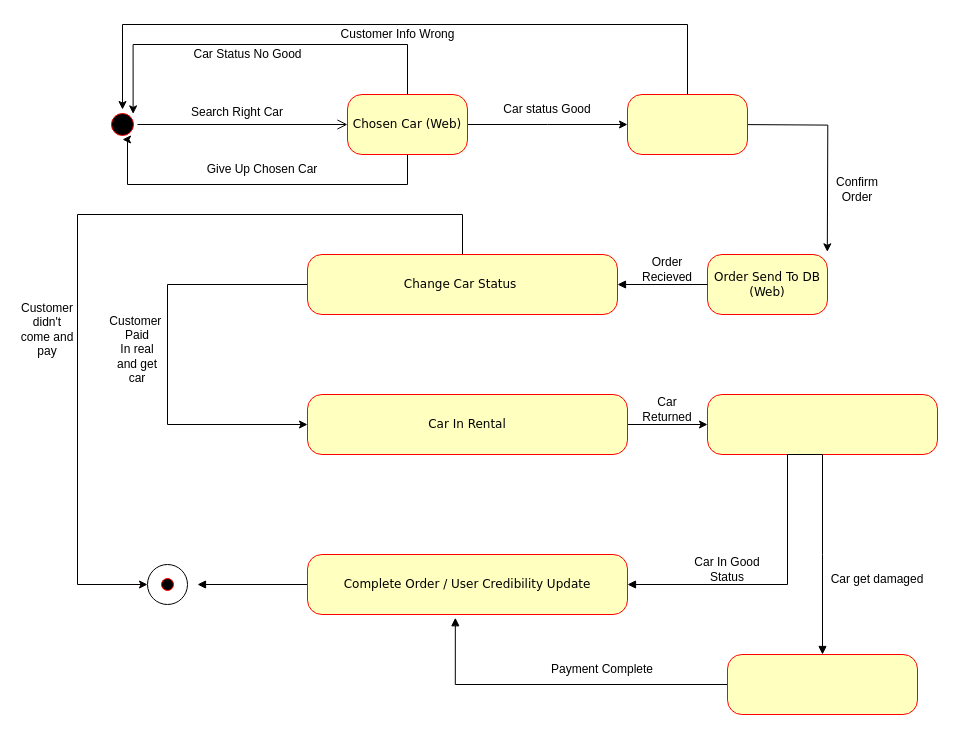
Image size: 955x732. Some labels were removed from this diagram. The shapes that lost their labels are listed below. From the top down, each one's box as (x1, y1, x2, y2) in pixels, then its label:
(626, 94, 748, 154): Customer Order Filling (Customer)
(706, 394, 938, 454): Return Car / Check Status
(726, 654, 918, 714): Extra Fee
